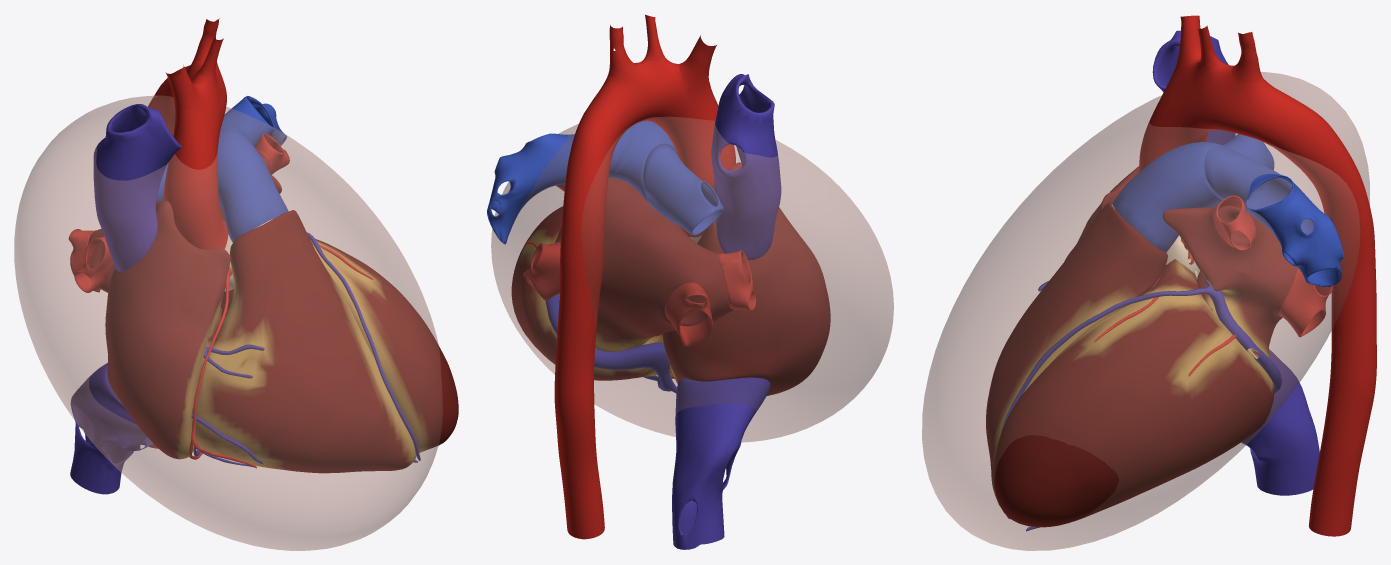
The model's file is human-heart.glb.
The picture shows the model from 3 angles, left to right: view 1: azimuth 30°, elevation 25°; view 2: azimuth 150°, elevation 25°; view 3: azimuth 270°, elevation 25°; orthographic projection. The views are drawn at different scales.
Parts seen in each view (by area): view 1: Pericardium, RightVentricle_Mesh, RightAtrium, LeftVentricle_Mesh, VenaCava_Superior, VenaCava_Inferior, Aorta_Arch, PulmonaryTrunk, Aorta_Ascending, PulmonaryArtery_Left, PulmonaryVein_RightSuperior, CardiacVein_Great (+7 smaller); view 2: Pericardium, RightAtrium, Aorta_Descending, LeftAtrium, VenaCava_Inferior, Aorta_Arch, VenaCava_Superior, PulmonaryArtery_Left, PulmonaryArtery_Right, LeftVentricle_Mesh, CoronarySinus, PulmonaryTrunk (+7 smaller); view 3: Pericardium, LeftVentricle_Mesh, Aorta_Descending, RightVentricle_Mesh, Aorta_Arch, LeftAtrium, PulmonaryArtery_Left, VenaCava_Inferior, PulmonaryTrunk, PulmonaryVein_LeftInferior, VenaCava_Superior, CoronarySinus (+8 smaller).
Part boxes in pixels (x1,y1,x2,y2): Pericardium: [14, 95, 442, 550]; RightVentricle_Mesh: [192, 210, 416, 473]; RightAtrium: [105, 200, 230, 459]; LeftVentricle_Mesh: [221, 239, 458, 452]; VenaCava_Superior: [93, 104, 181, 271]; VenaCava_Inferior: [70, 363, 153, 494]; Aorta_Arch: [153, 59, 226, 186]; PulmonaryTrunk: [217, 129, 288, 242]; Aorta_Ascending: [163, 171, 228, 249]; PulmonaryArtery_Left: [220, 96, 286, 147]; PulmonaryVein_RightSuperior: [74, 236, 113, 292]; CardiacVein_Great: [307, 232, 420, 460]; Pericardium: [491, 117, 893, 442]; RightAtrium: [661, 162, 830, 395]; Aorta_Descending: [554, 159, 608, 539]; LeftAtrium: [555, 177, 734, 351]; VenaCava_Inferior: [672, 377, 770, 549]; Aorta_Arch: [568, 57, 732, 175]; VenaCava_Superior: [711, 74, 781, 260]; PulmonaryArtery_Left: [487, 128, 630, 244]; PulmonaryArtery_Right: [643, 143, 724, 235]; LeftVentricle_Mesh: [511, 206, 662, 380]; CoronarySinus: [545, 294, 676, 392]; PulmonaryTrunk: [608, 120, 676, 203]; Pericardium: [922, 72, 1369, 550]; LeftVentricle_Mesh: [993, 259, 1274, 527]; Aorta_Descending: [1303, 135, 1376, 536]; RightVentricle_Mesh: [986, 202, 1167, 505]; Aorta_Arch: [1145, 58, 1336, 172]; LeftAtrium: [1162, 207, 1297, 358]; PulmonaryArtery_Left: [1204, 145, 1343, 286]; VenaCava_Inferior: [1241, 349, 1319, 495]; PulmonaryTrunk: [1112, 142, 1232, 252]; PulmonaryVein_LeftInferior: [1278, 267, 1333, 337]; VenaCava_Superior: [1152, 30, 1235, 144]; CoronarySinus: [1204, 280, 1282, 393].
Size of the model in its own units: 4.12 by 5.06 by 4.1.
